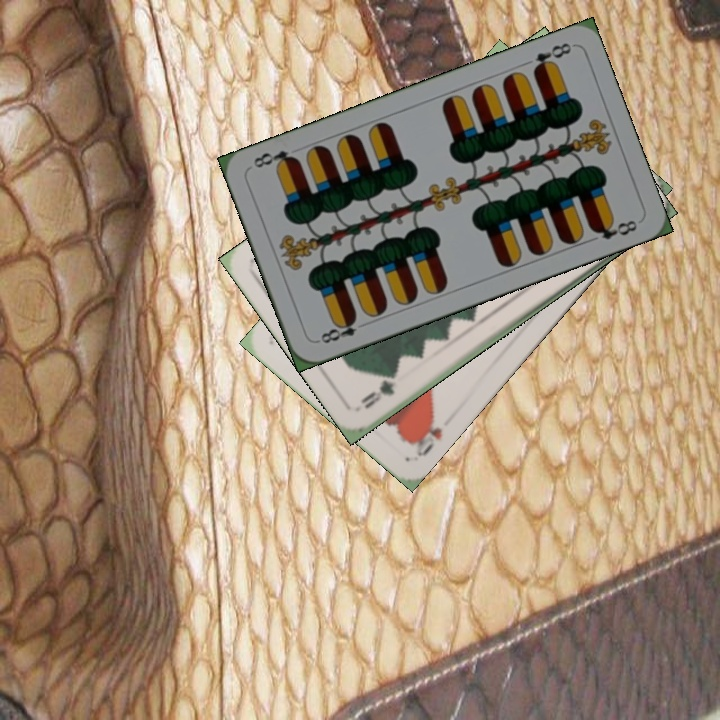E8: (313, 312, 370, 346), (529, 38, 574, 76)
G9: (356, 370, 400, 412)
HO: (407, 412, 445, 459)
